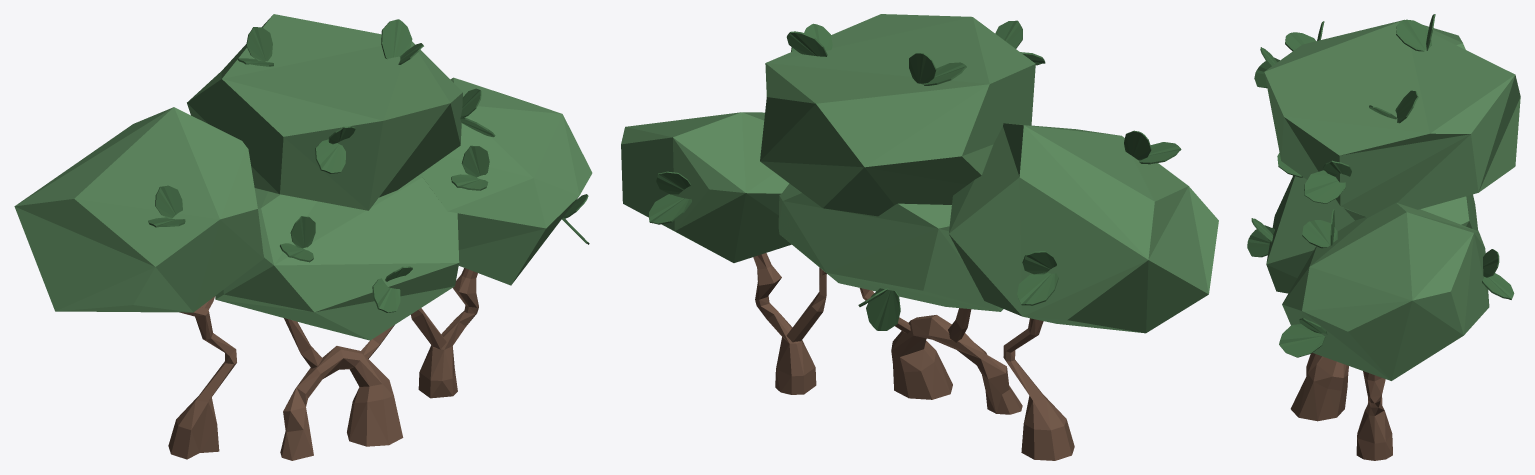
File: bush_5.obj
3 views of the same model, side by side, from view 1: azimuth 30°, elevation 25°; view 2: azimuth 150°, elevation 25°; view 3: azimuth 270°, elevation 25° (orthographic). The views are drawn at different scales.
Visible parts, largest first — view 1: bush_5; view 2: bush_5; view 3: bush_5.
Boxes of the visible parts, box(x1,y1,x2,y2) form: bush_5: box(14, 14, 592, 460); bush_5: box(621, 14, 1218, 460); bush_5: box(1247, 14, 1520, 460).
Size of the model in its own units: 1.72 by 1.17 by 0.7916.
